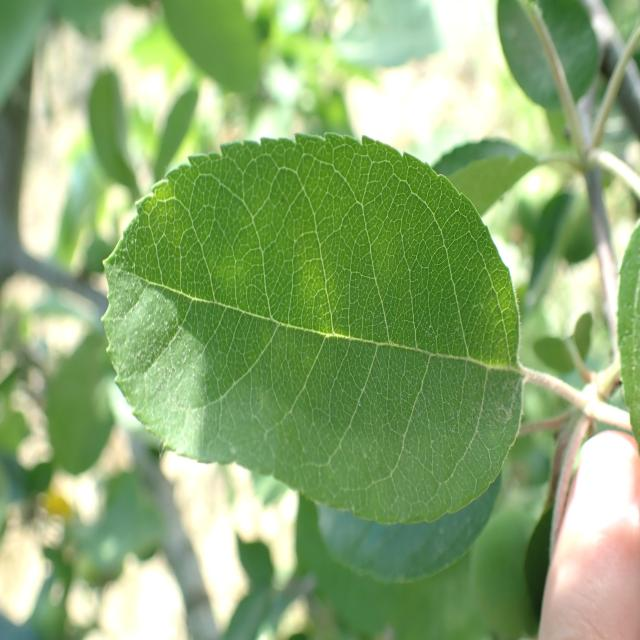healthy: (101, 132, 522, 528), (312, 467, 504, 583), (537, 430, 640, 639), (496, 0, 599, 138), (616, 220, 640, 449)
